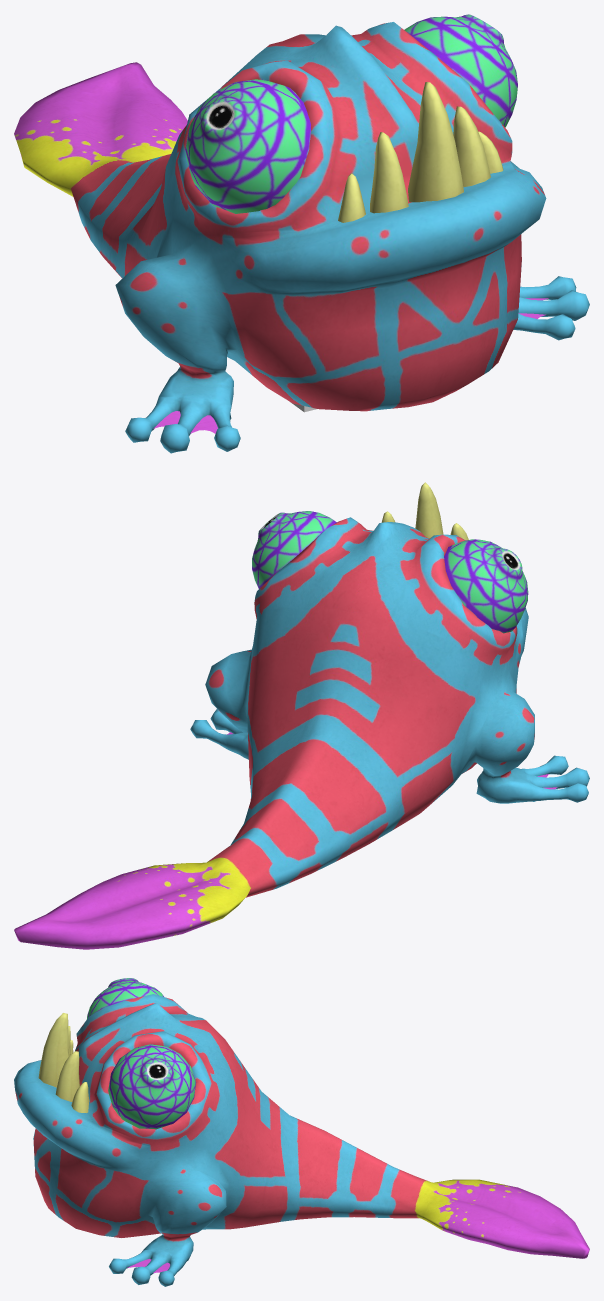
File: alebrije.gltf
The picture shows the model from 3 angles, top to bottom: view 1: azimuth 30°, elevation 25°; view 2: azimuth 150°, elevation 25°; view 3: azimuth 270°, elevation 25°; orthographic projection. The views are drawn at different scales.
Visible parts, largest first — view 1: Alebrije_SketchFAb; view 2: Alebrije_SketchFAb; view 3: Alebrije_SketchFAb.
Part boxes in pixels (x1,y1,x2,y2): Alebrije_SketchFAb: [14, 14, 589, 453]; Alebrije_SketchFAb: [14, 482, 589, 949]; Alebrije_SketchFAb: [14, 978, 589, 1286].
Bounding box in the file's own units: 22.47 × 16 × 36.84.
2 materials, 1 textured.
